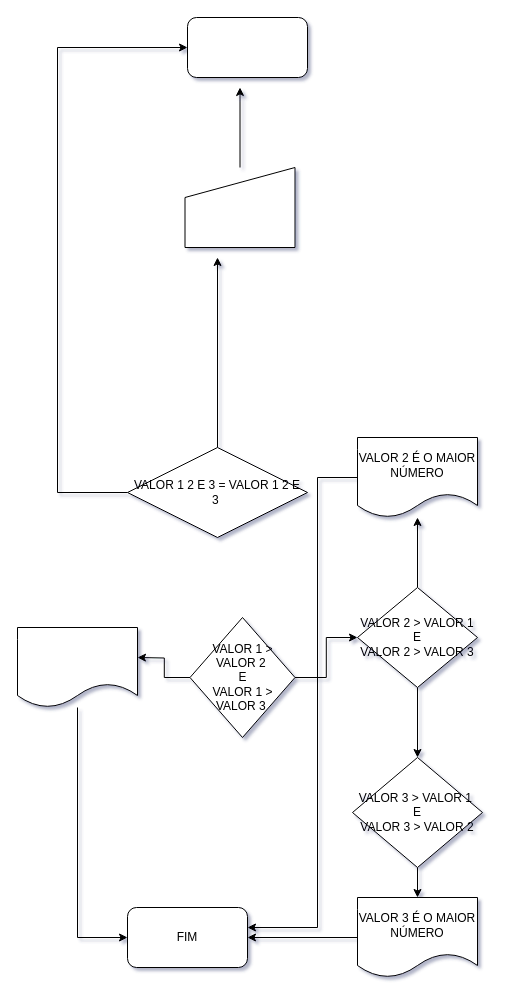
This 506x1001 diagram has some shape labels left out. Each missing label, with the centre of its shape:
INÍCIO: point 247,47
RECEBER VALOR 1 2 E 3: point 239,207
VALOR 1 É O MAIOR NÚMERO: point 77,667
